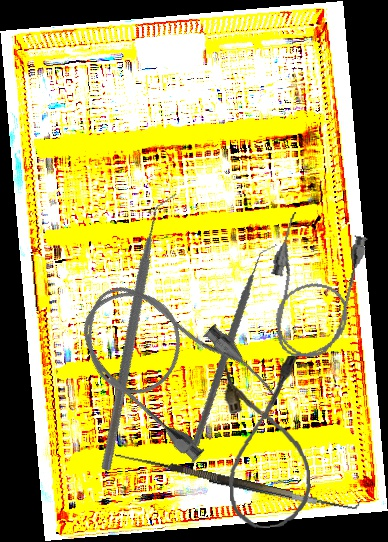Cannula: (56, 254, 283, 474), (254, 209, 371, 367), (220, 354, 314, 531)
Chopper: (19, 192, 262, 473), (152, 243, 319, 448)
Hook Surgical: (111, 450, 294, 508)
Spatula Surgical: (208, 463, 362, 518)
